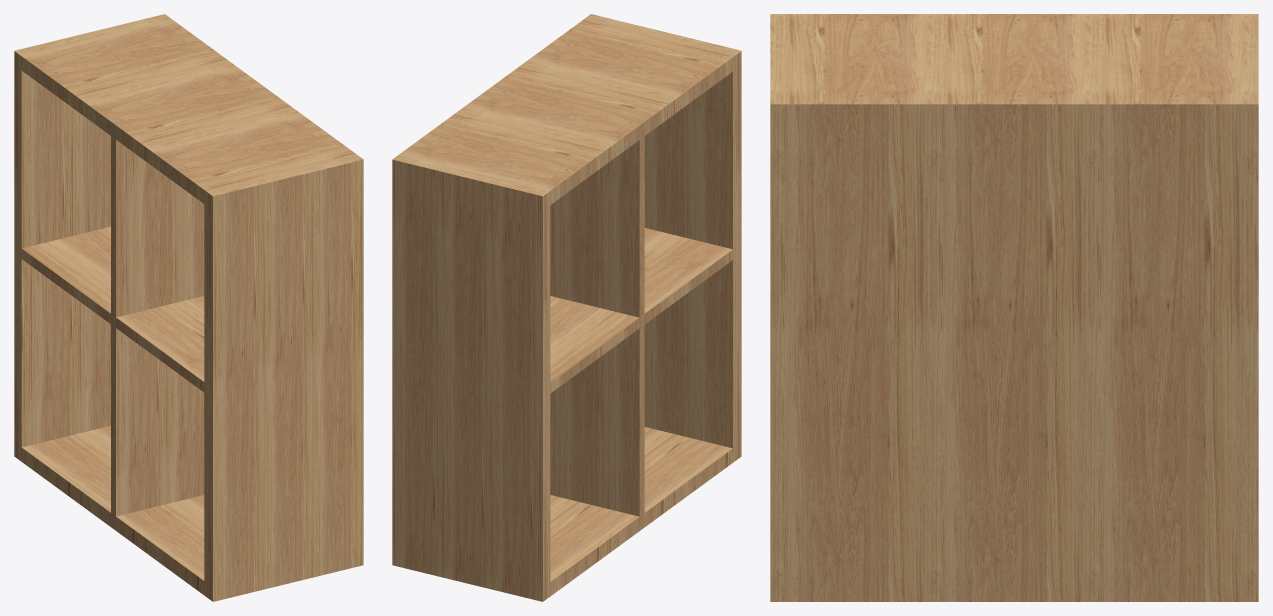
The model's file is Boxes.fbx.
3 renders of one model, left to right at view 1: azimuth 30°, elevation 25°; view 2: azimuth 150°, elevation 25°; view 3: azimuth 270°, elevation 25°, orthographic. The views are drawn at different scales.
Visible parts, largest first — view 1: Cube; view 2: Cube; view 3: Cube.
Part boxes in pixels (bbox=[...]): Cube: bbox=[14, 14, 363, 601]; Cube: bbox=[392, 14, 741, 601]; Cube: bbox=[770, 14, 1258, 601].
Size of the model in its own units: 35 by 90 by 80.
